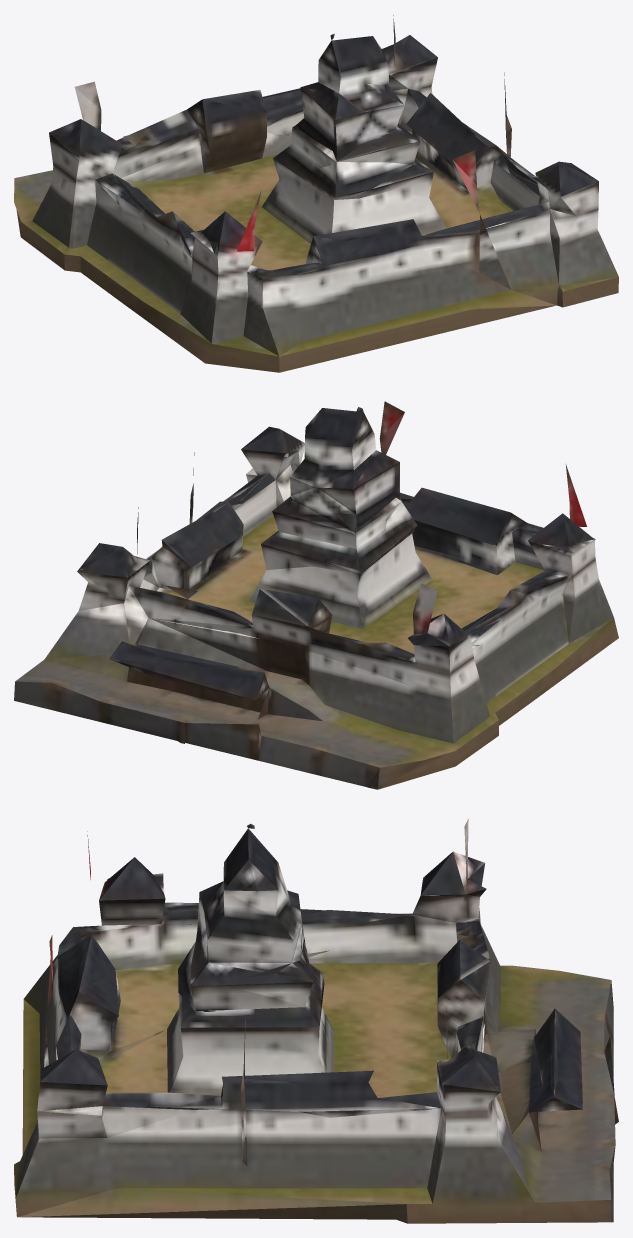
File: camp_japan_3_far.glb
3 renders of one model, top to bottom at view 1: azimuth 30°, elevation 25°; view 2: azimuth 150°, elevation 25°; view 3: azimuth 270°, elevation 25°, orthographic. The views are drawn at different scales.
Visible parts, largest first — view 1: camp_japan_3_far; view 2: camp_japan_3_far; view 3: camp_japan_3_far.
Part boxes in pixels (<box>): camp_japan_3_far: <box>14,15,618,372</box>; camp_japan_3_far: <box>14,401,618,789</box>; camp_japan_3_far: <box>14,818,618,1223</box>.
Size of the model in its own units: 0.9329 by 0.5152 by 1.
Materials: 1 (1 with a texture image).
